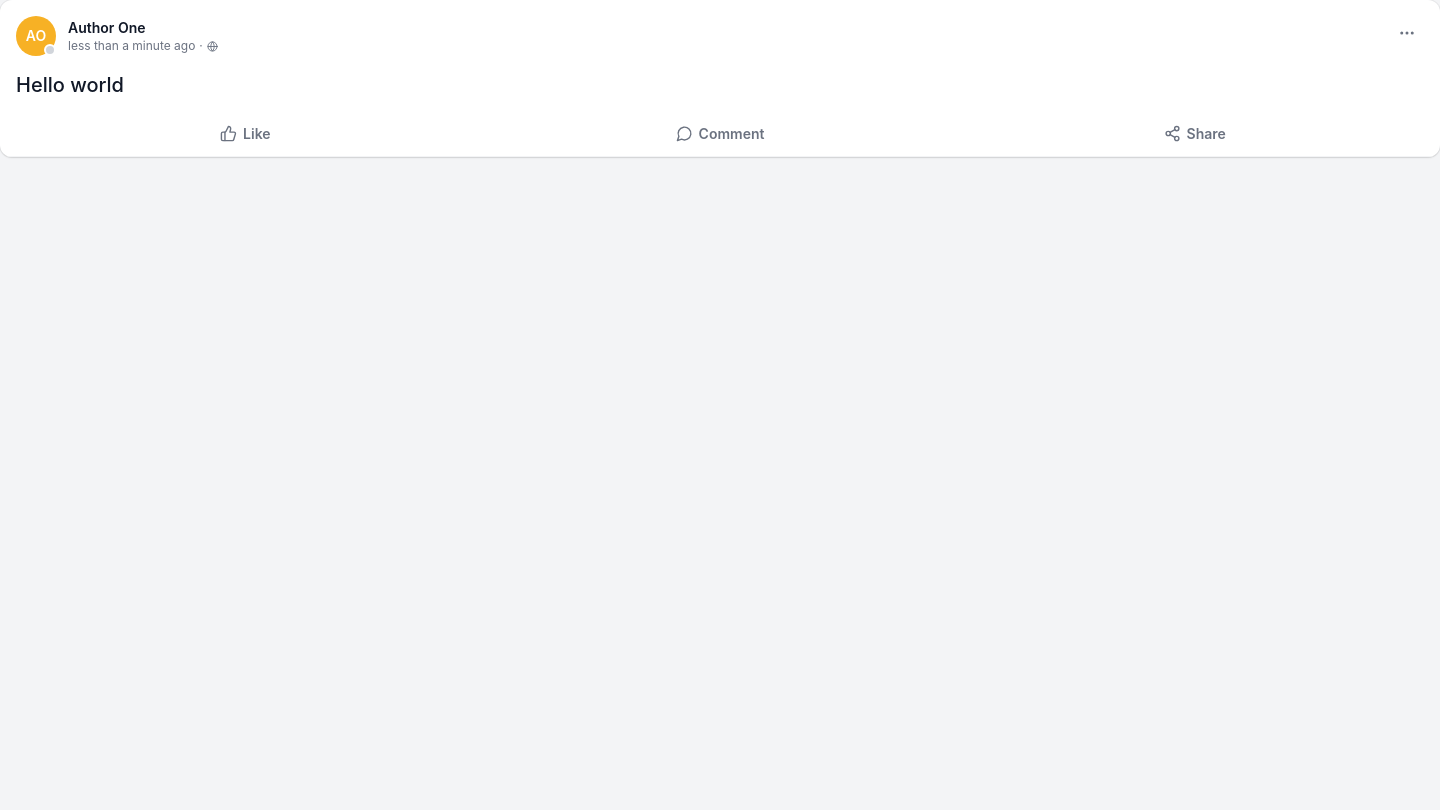
Test: PostCard — reaction picker hover timing › opens the picker ~500ms after hovering the Like button
Hover over the button "Like" at (245, 134), box 8,116 -> 483,152
Wait 500 ms
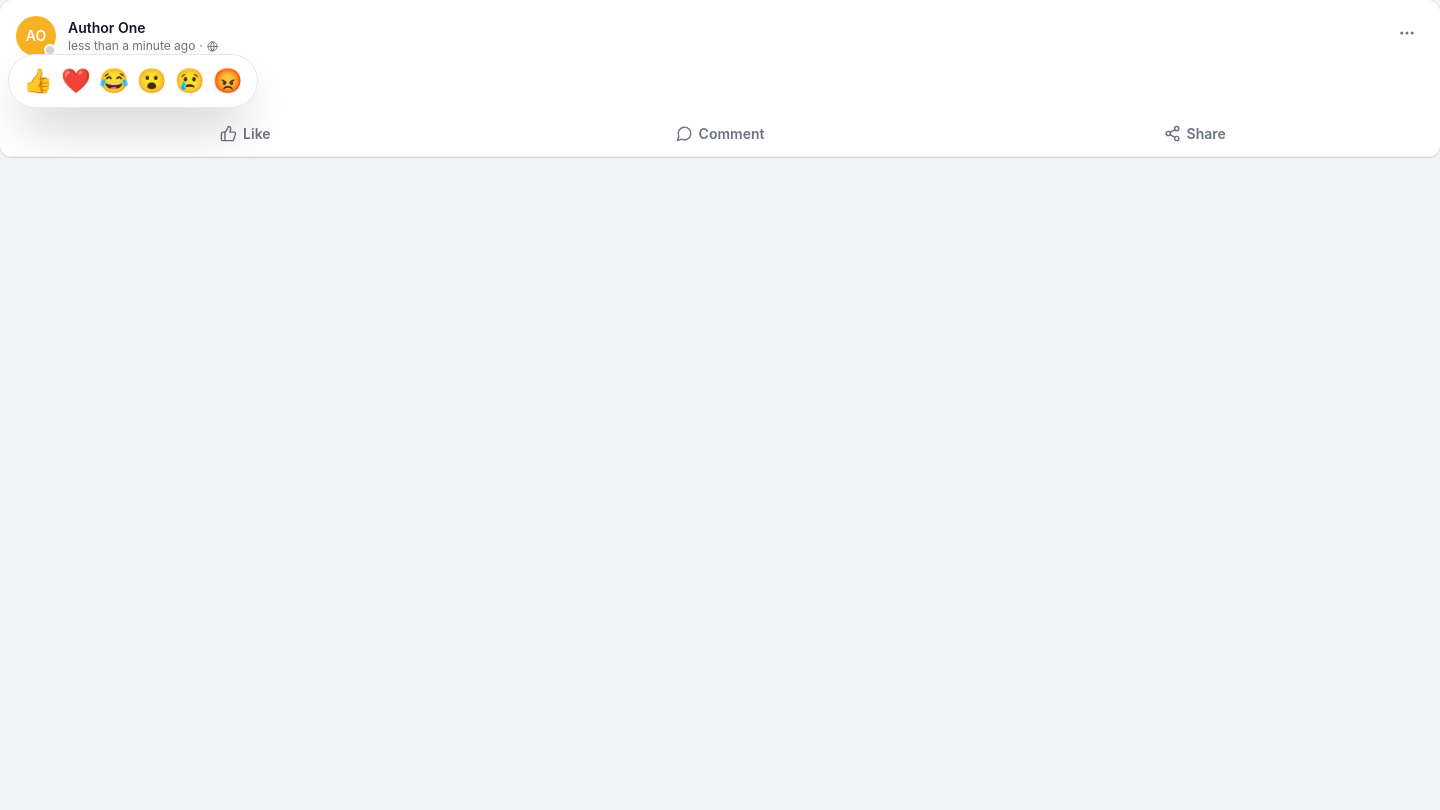
Expected: the dialog named "reaction picker" is shown, 8,54 -> 258,108
